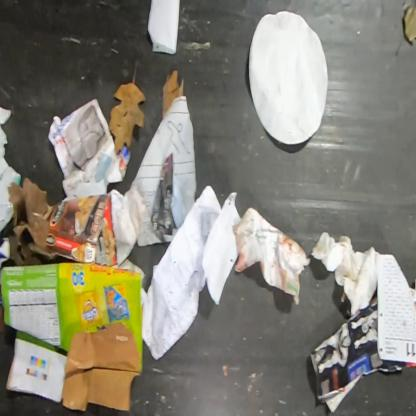cardboard: (0, 260, 143, 412), (7, 176, 146, 267)
soft_plastic: (0, 125, 22, 234)
